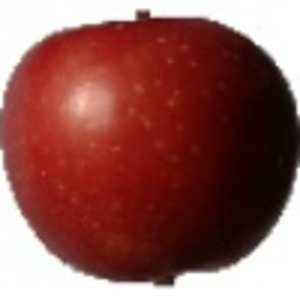maçã braeburn: (1, 8, 300, 286)
